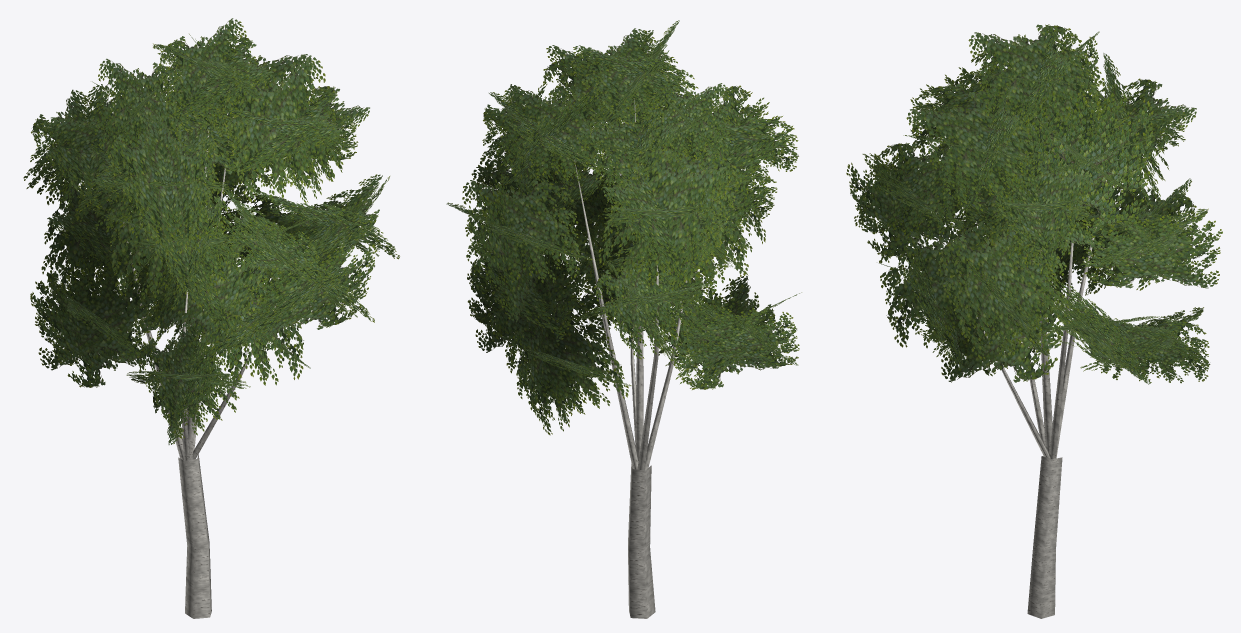
Rendered from birch.glb.
3 views of the same model, side by side, from view 1: azimuth 30°, elevation 25°; view 2: azimuth 150°, elevation 25°; view 3: azimuth 270°, elevation 25° (orthographic).
Parts seen in each view (by area): view 1: birch_foliage, birch_wood; view 2: birch_foliage, birch_wood; view 3: birch_foliage, birch_wood.
Boxes of the visible parts, x1=… form: birch_foliage: x1=23, y1=18, x2=399, y2=444; birch_wood: x1=123, y1=113, x2=275, y2=618; birch_foliage: x1=446, y1=20, x2=801, y2=435; birch_wood: x1=574, y1=98, x2=687, y2=618; birch_foliage: x1=846, y1=24, x2=1222, y2=384; birch_wood: x1=976, y1=117, x2=1106, y2=618.
Size of the model in its own units: 5.93 by 9.34 by 5.66.
2 materials, 2 textured.
